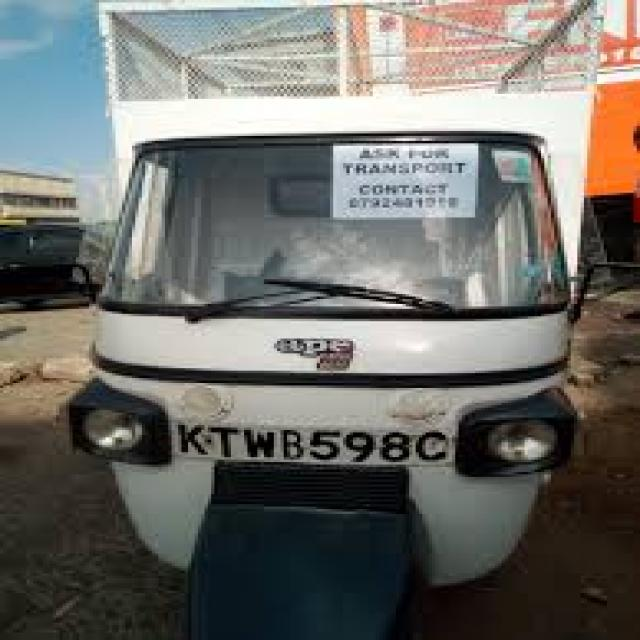tuktuk: (46, 2, 637, 640)
